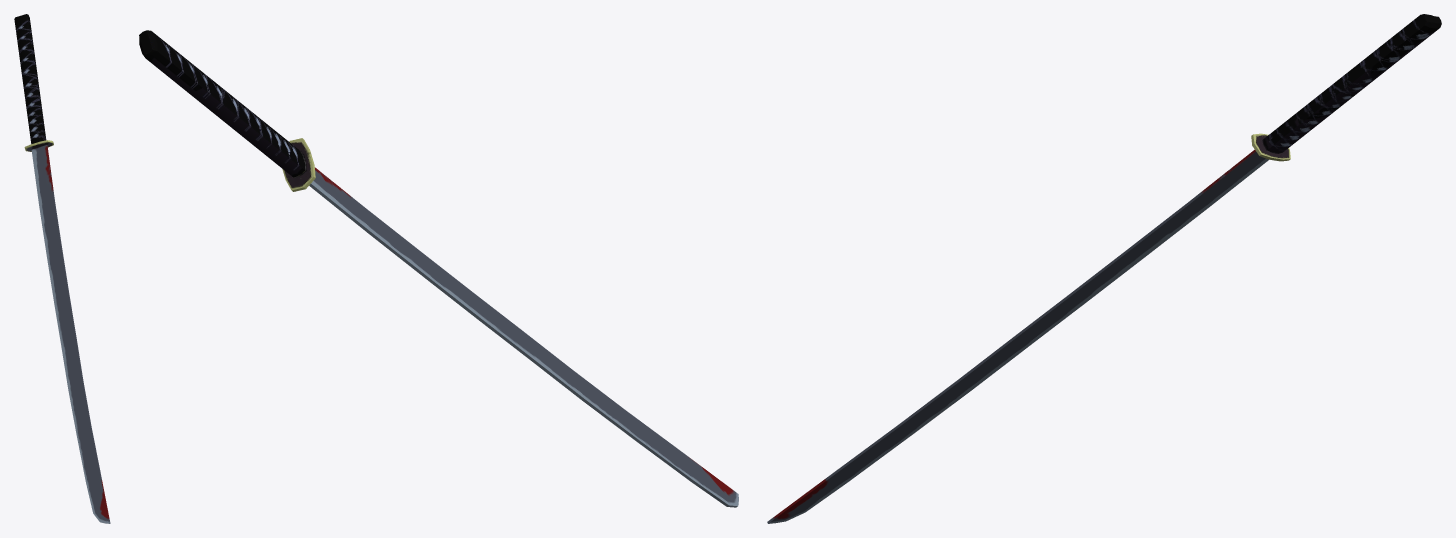
File: sword.obj
3 renders of one model, left to right at view 1: azimuth 30°, elevation 25°; view 2: azimuth 150°, elevation 25°; view 3: azimuth 270°, elevation 25°, orthographic. The views are drawn at different scales.
Parts seen in each view (by area): view 1: katana; view 2: katana; view 3: katana.
Boxes of the visible parts, x1,y1,x2,y2 form: katana: [14, 14, 110, 523]; katana: [139, 30, 738, 507]; katana: [767, 14, 1441, 523].
Bounding box in the file's own units: 0.2075 × 0.5939 × 0.6051.
Materials: 1 (1 with a texture image).
